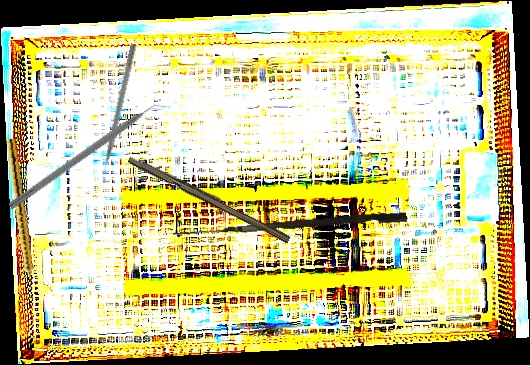Chopper: (7, 95, 172, 219)
Handpiece: (2, 138, 38, 291)
Hook Surgical: (172, 207, 408, 247)
Pusher: (97, 42, 137, 184)
Scalpel Handle: (126, 153, 293, 244)
